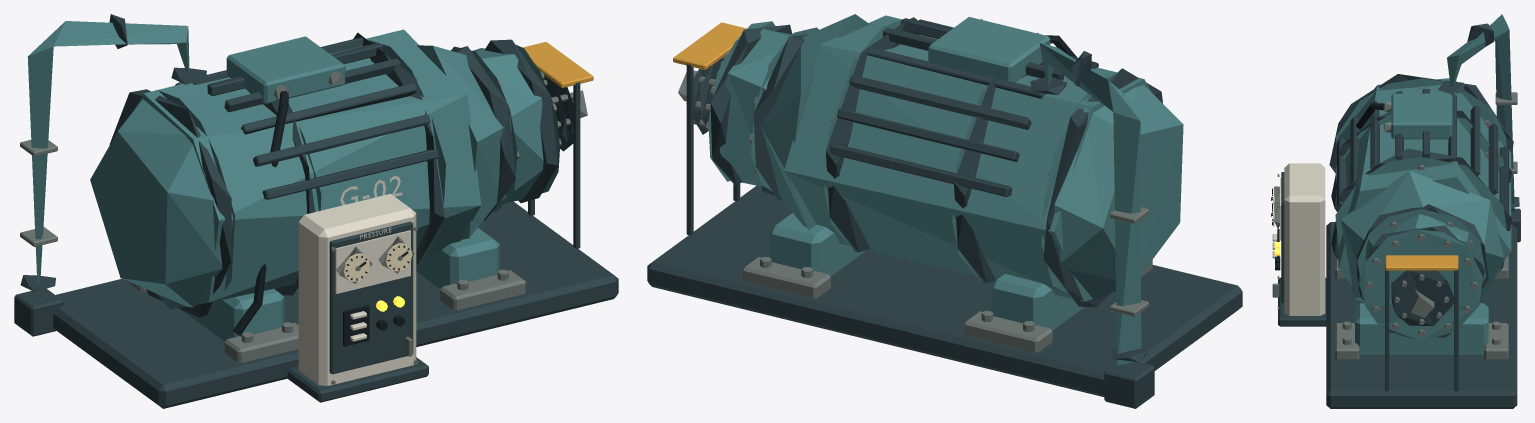
File: turbine-generator.glb
3 renders of one model, left to right at view 1: azimuth 30°, elevation 25°; view 2: azimuth 150°, elevation 25°; view 3: azimuth 270°, elevation 25°, orthographic. The views are drawn at different scales.
Visible parts, largest first — view 1: turbine-generator__turbine-generator__petrol, turbine-generator__turbine-generator__steel, turbine-generator__turbine-generator__ivory, turbine-generator__turbine-generator__hardware, turbine-generator__turbine-generator__rubber, turbine-generator__turbine-generator__amber, turbine-generator__turbine-generator__gauge-face; view 2: turbine-generator__turbine-generator__petrol, turbine-generator__turbine-generator__steel, turbine-generator__turbine-generator__hardware, turbine-generator__turbine-generator__amber; view 3: turbine-generator__turbine-generator__petrol, turbine-generator__turbine-generator__steel, turbine-generator__turbine-generator__ivory, turbine-generator__turbine-generator__hardware, turbine-generator__turbine-generator__amber, turbine-generator__turbine-generator__rubber.
Boxes of the visible parts, left/top/right/bottom form: turbine-generator__turbine-generator__petrol: left=27, top=21, right=559, bottom=341; turbine-generator__turbine-generator__steel: left=14, top=14, right=618, bottom=408; turbine-generator__turbine-generator__ivory: left=298, top=176, right=416, bottom=385; turbine-generator__turbine-generator__hardware: left=20, top=71, right=587, bottom=384; turbine-generator__turbine-generator__rubber: left=233, top=91, right=409, bottom=346; turbine-generator__turbine-generator__amber: left=523, top=42, right=593, bottom=87; turbine-generator__turbine-generator__gauge-face: left=343, top=243, right=412, bottom=281; turbine-generator__turbine-generator__petrol: left=708, top=14, right=1183, bottom=365; turbine-generator__turbine-generator__steel: left=647, top=17, right=1242, bottom=408; turbine-generator__turbine-generator__hardware: left=678, top=19, right=1152, bottom=352; turbine-generator__turbine-generator__amber: left=673, top=22, right=746, bottom=69; turbine-generator__turbine-generator__petrol: left=1335, top=14, right=1514, bottom=354; turbine-generator__turbine-generator__steel: left=1278, top=23, right=1520, bottom=408; turbine-generator__turbine-generator__ivory: left=1272, top=163, right=1325, bottom=315; turbine-generator__turbine-generator__hardware: left=1271, top=86, right=1517, bottom=359; turbine-generator__turbine-generator__amber: left=1385, top=255, right=1458, bottom=270; turbine-generator__turbine-generator__rubber: left=1271, top=103, right=1384, bottom=270.
Bounding box in the file's own units: 5.25 × 3.07 × 2.95.
